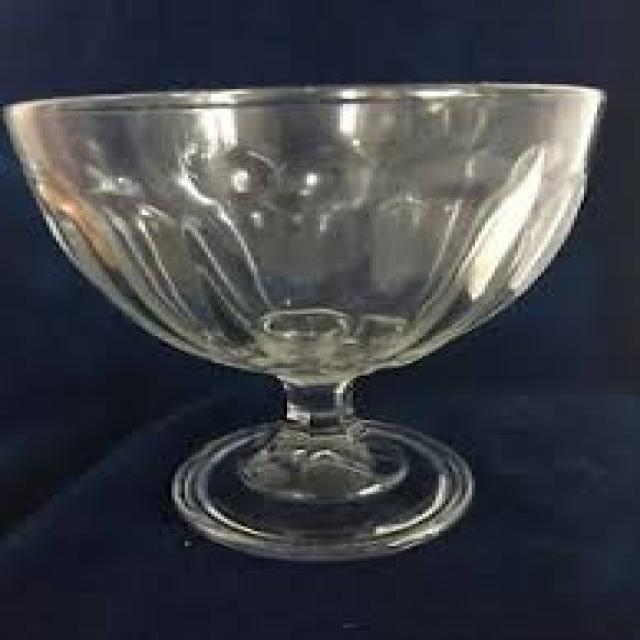glass: (3, 84, 600, 558)
